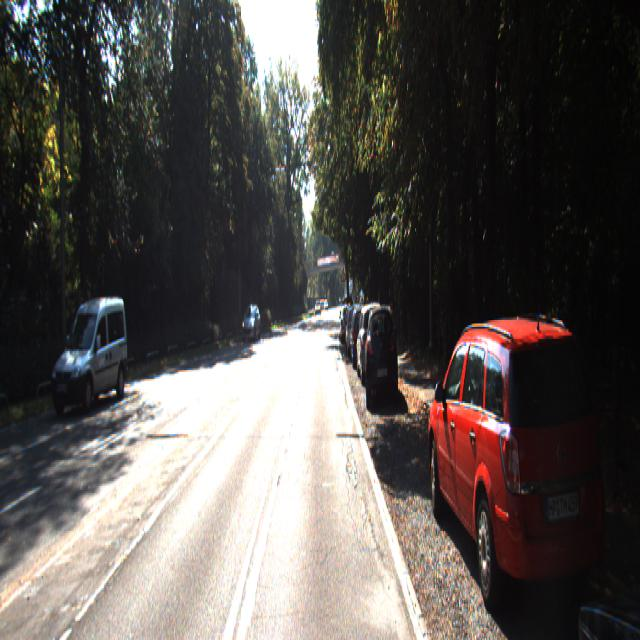Car: (422, 308, 622, 638), (571, 370, 639, 638), (48, 292, 130, 419), (365, 301, 398, 406), (357, 304, 389, 386), (351, 306, 374, 370), (347, 304, 368, 360), (242, 304, 262, 342), (341, 304, 355, 344)
